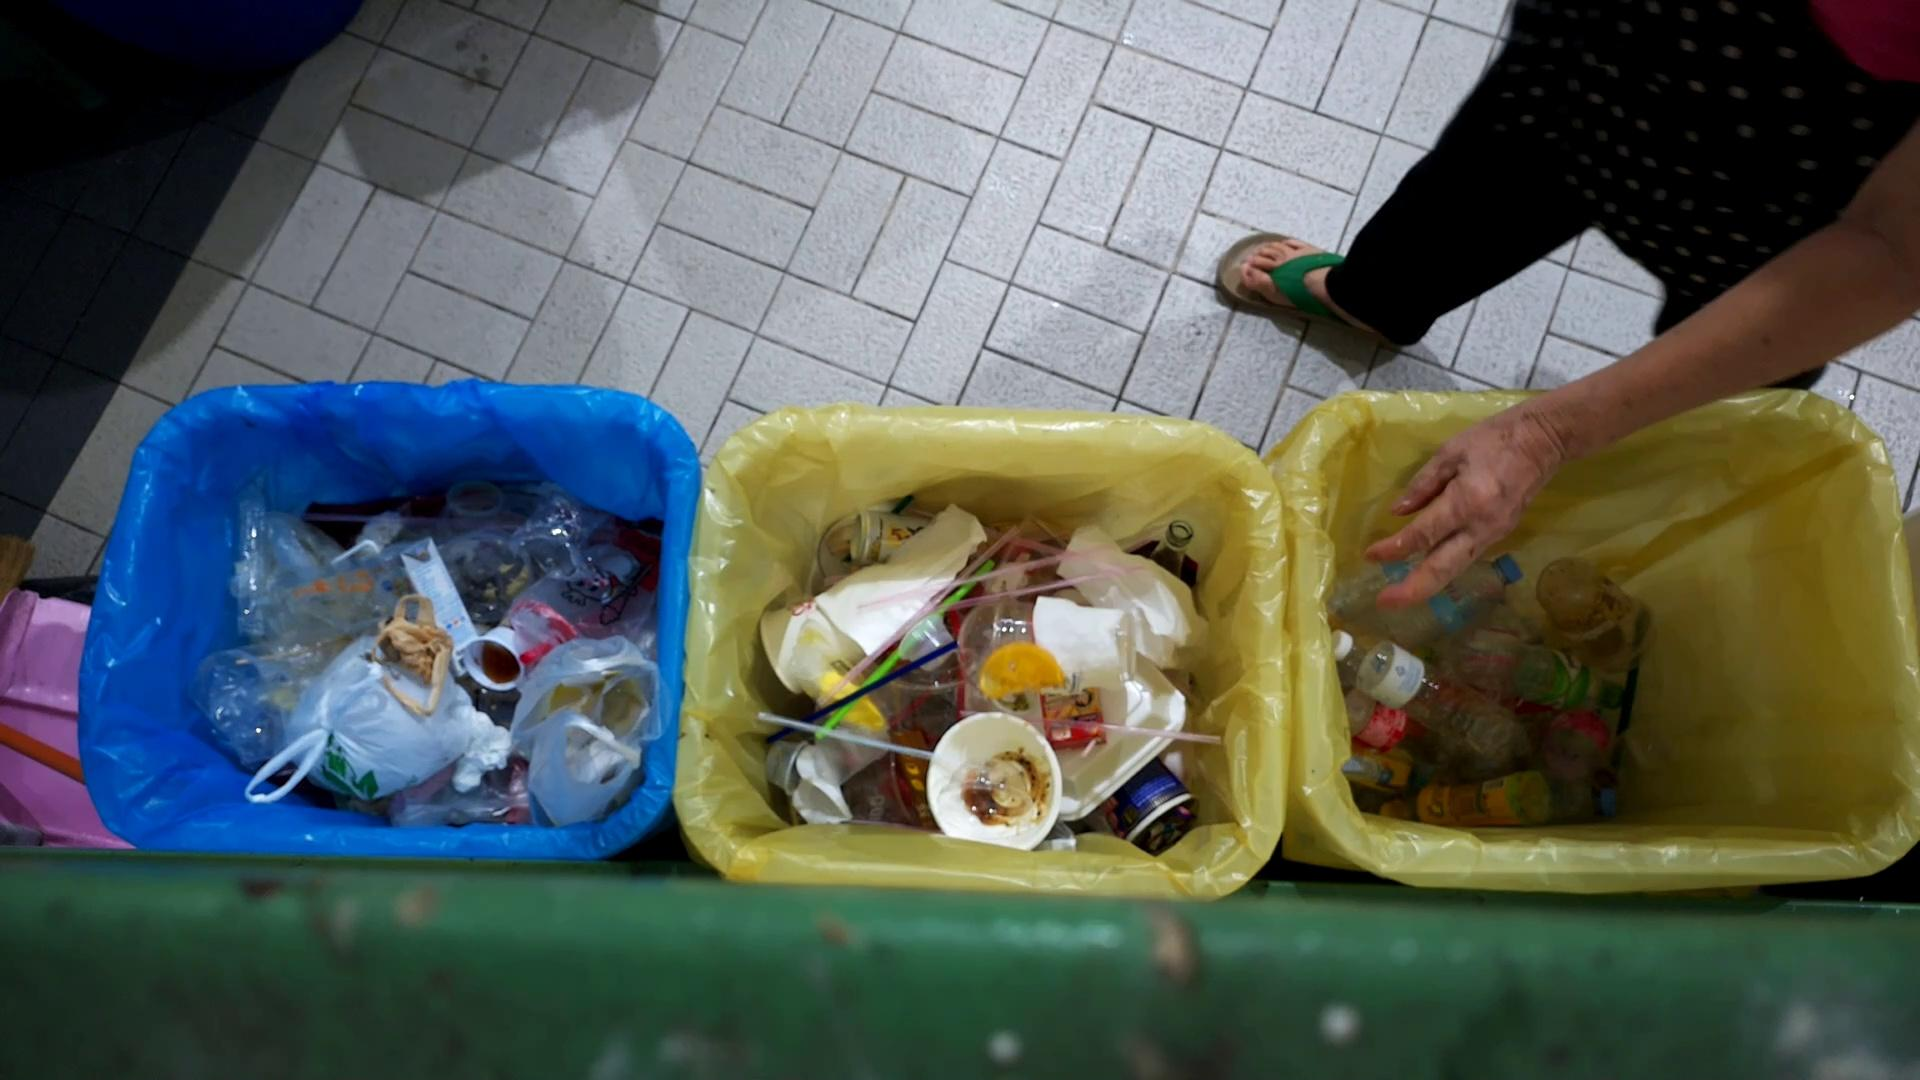filled plastic bag: (240, 634, 478, 810), (512, 634, 661, 827)
food container: (928, 714, 1061, 851), (461, 627, 525, 691)
milk carton: (377, 535, 480, 664)
plastic cup: (952, 592, 1152, 704), (935, 755, 1033, 832)
snack packaging: (975, 645, 1068, 698)
straw: (817, 521, 1015, 710), (814, 560, 994, 742), (758, 640, 960, 748), (850, 554, 1137, 607), (1017, 715, 1227, 755), (941, 575, 1148, 610)
tissue paper: (1050, 592, 1136, 687), (450, 704, 513, 795)
